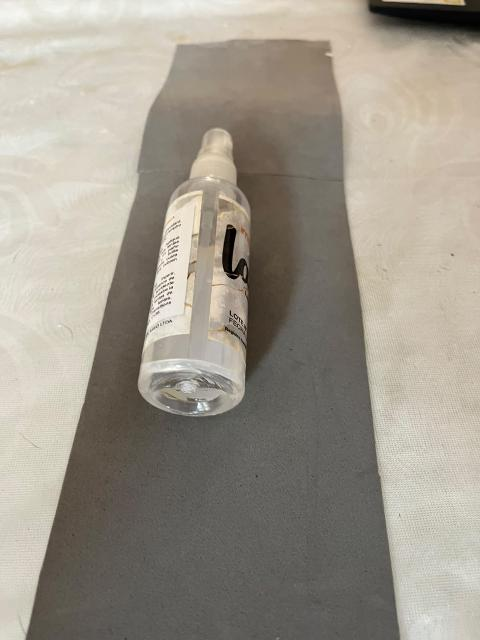PET: (131, 118, 306, 484)
